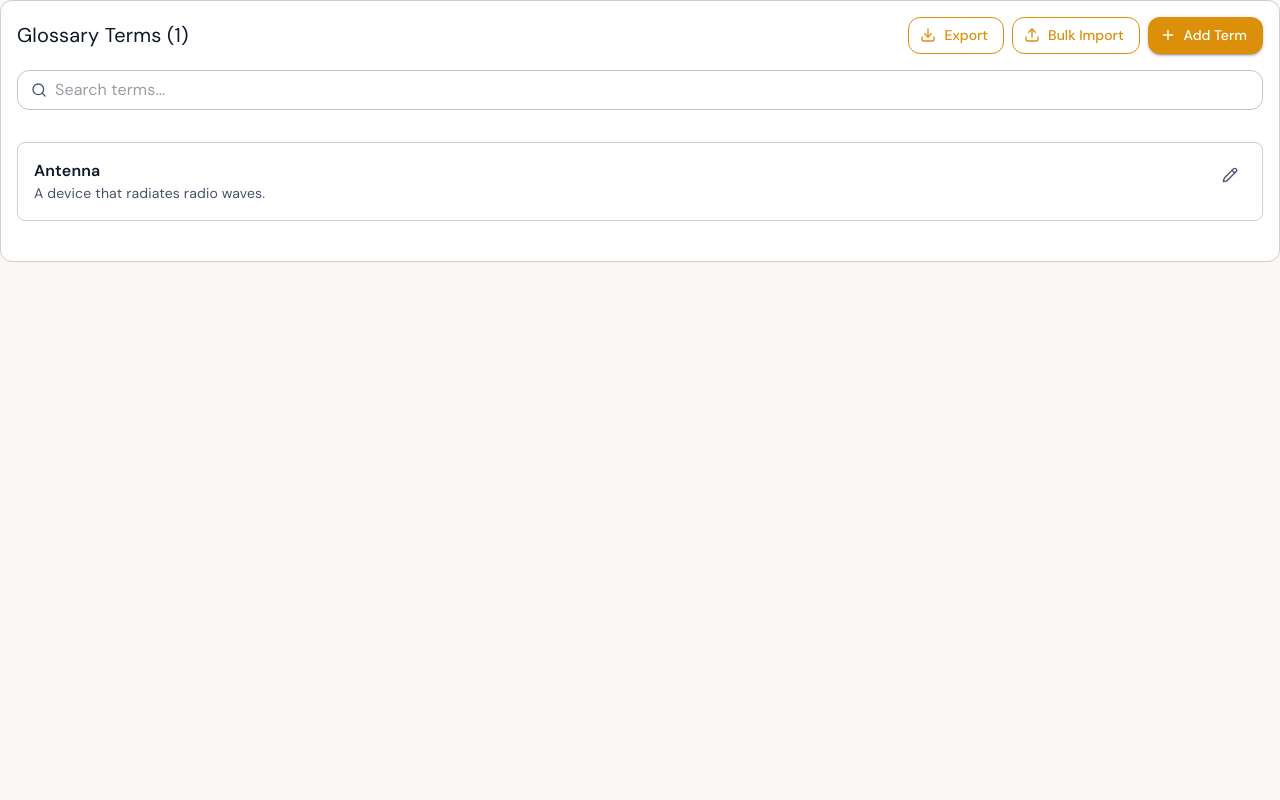
AdminGlossary › add dialog › keeps submit disabled until both fields are filled
Check: the heading "Antenna" is shown, box x1=34 y1=160 x2=100 y2=180
Click the button "Add Term".
click(1205, 35)  # box x1=1148 y1=17 x2=1263 y2=54
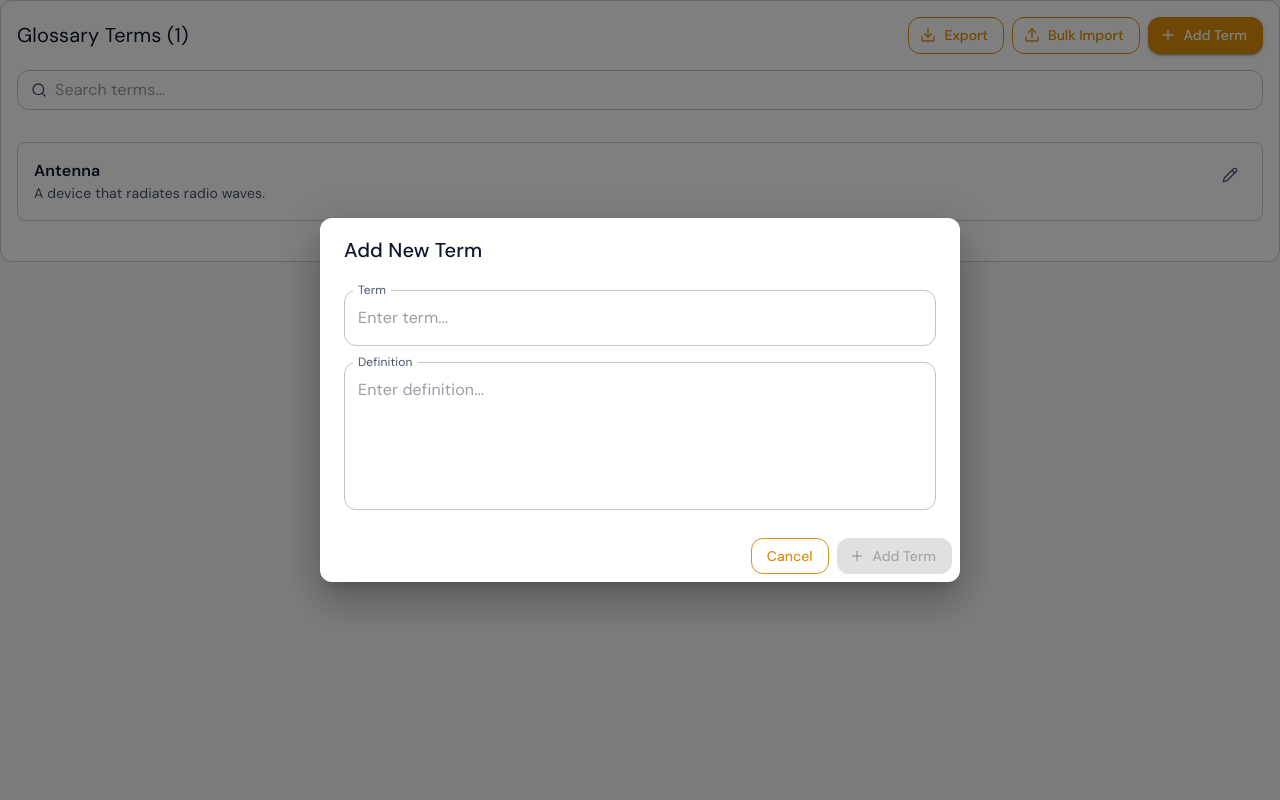
Check: the button "Add Term" is disabled, box x1=837 y1=538 x2=952 y2=574
Type "Balun" into the field labelled "Term".
click(640, 318); type("Balun")  # box x1=344 y1=290 x2=936 y2=346
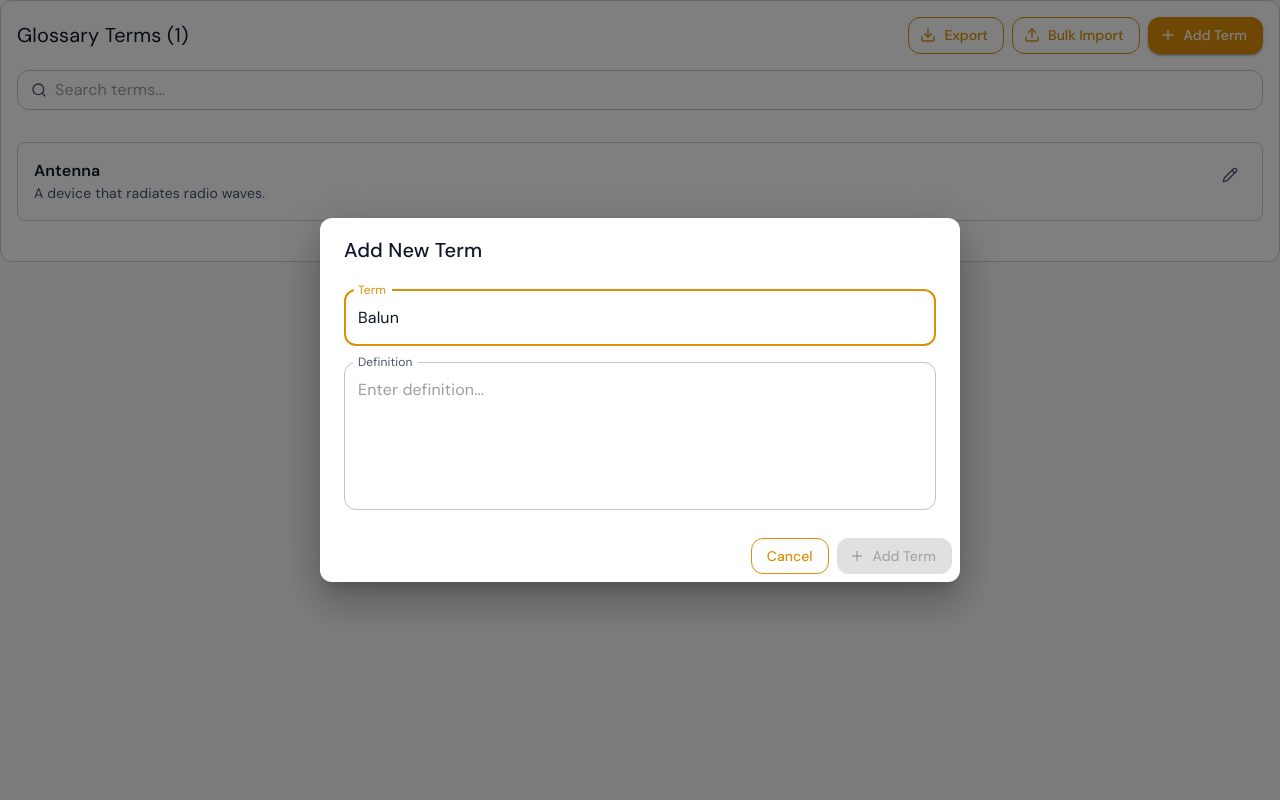
Check: the button "Add Term" is disabled, box x1=837 y1=538 x2=952 y2=574
Type "A transformer." into the text box labelled "Definition".
click(640, 436); type("A transformer.")  # box x1=358 y1=378 x2=922 y2=493
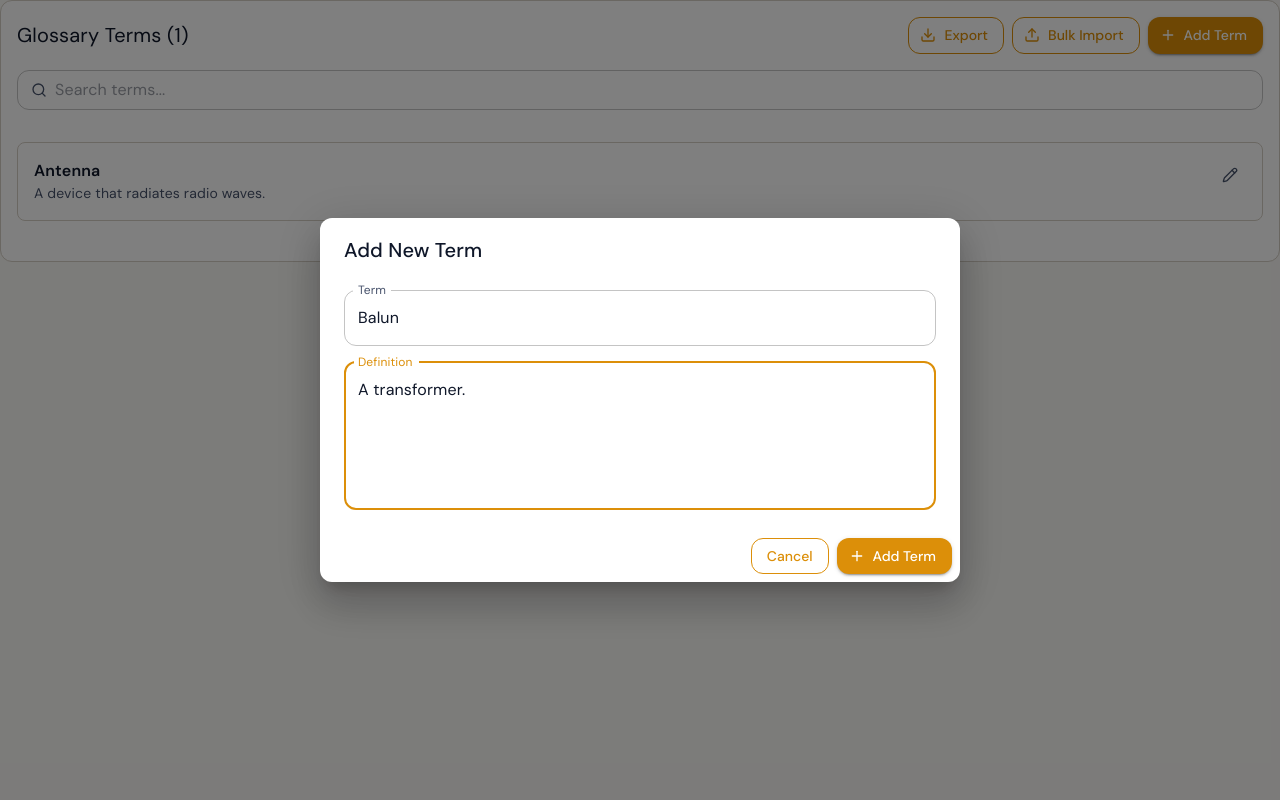
Check: the button "Add Term" is enabled, box x1=837 y1=538 x2=952 y2=574
